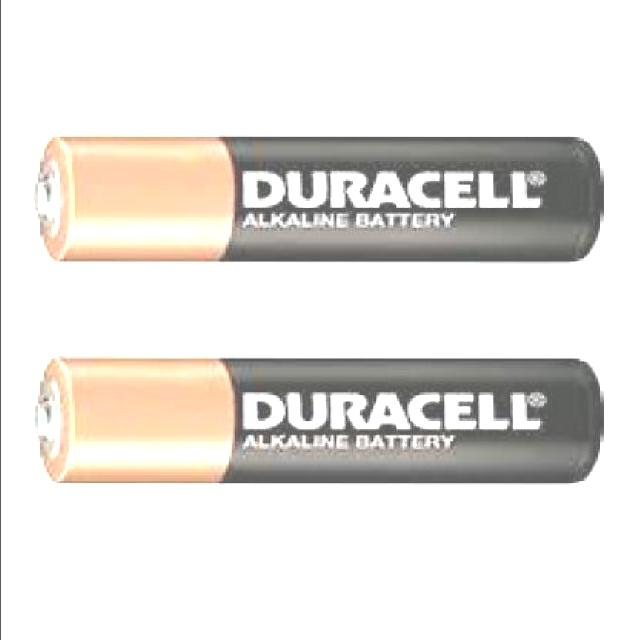AAA: (29, 332, 609, 492), (29, 130, 609, 266)
